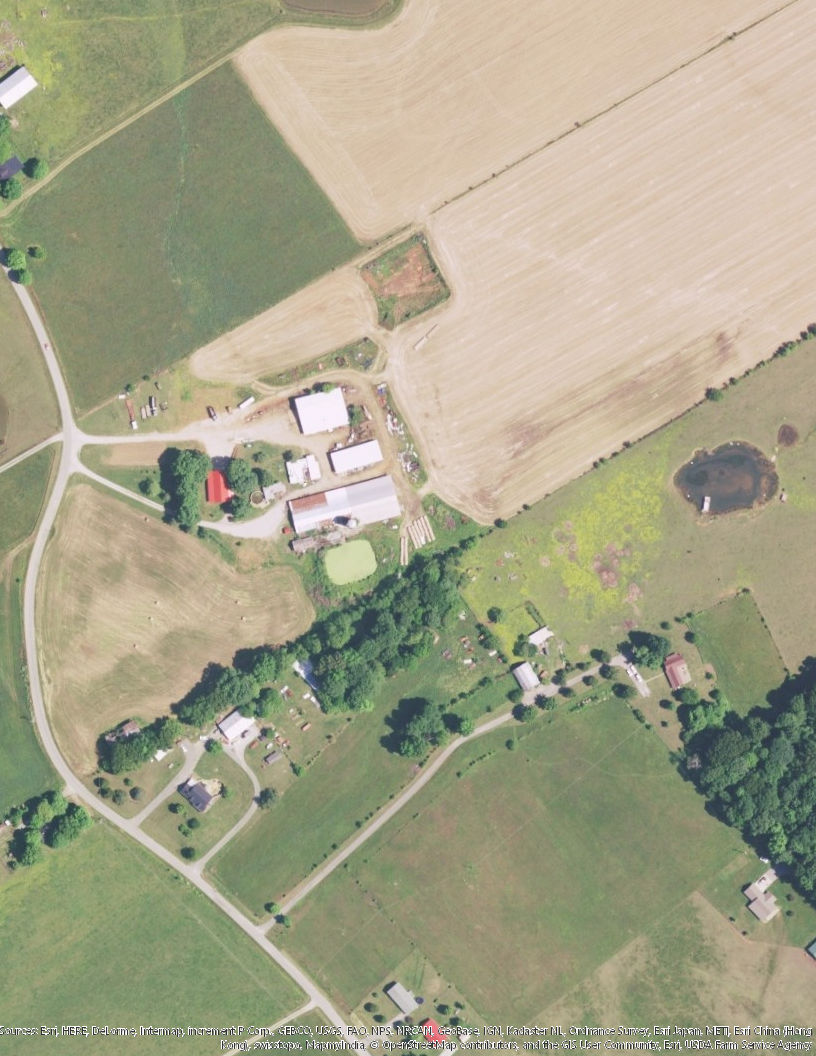cafo: (283, 472, 411, 544), (322, 433, 393, 475)
